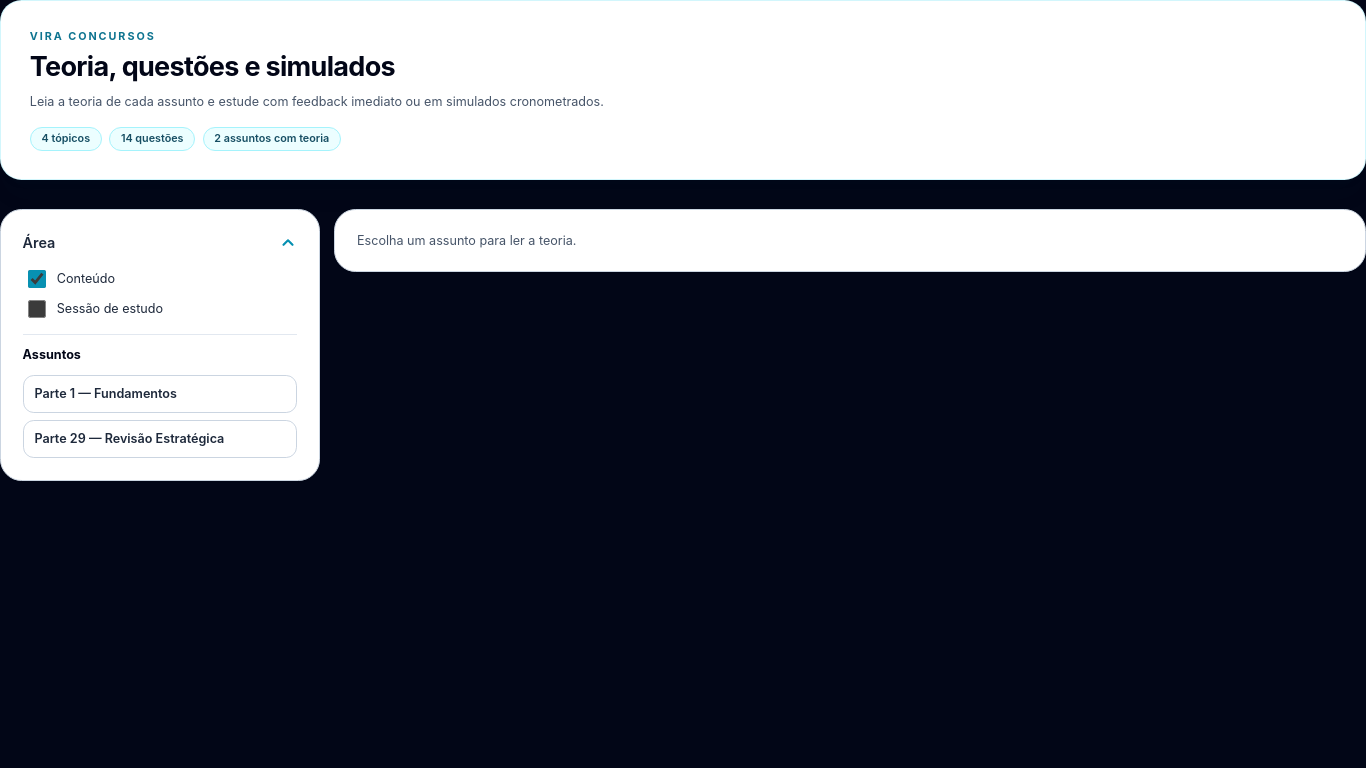
it: ConcursosDashboard › leva da teoria para a sessão de estudo com o assunto já marcado
This screenshot has width=1366, height=768.
Expected: the checkbox labelled "Conteúdo" is shown, [28,270,46,288]
What coordinates should you click on to do the following:
click the button "Parte 1 — Fundamentos"
I would click on:
 (160, 394)
Its box is [23,375,297,413].
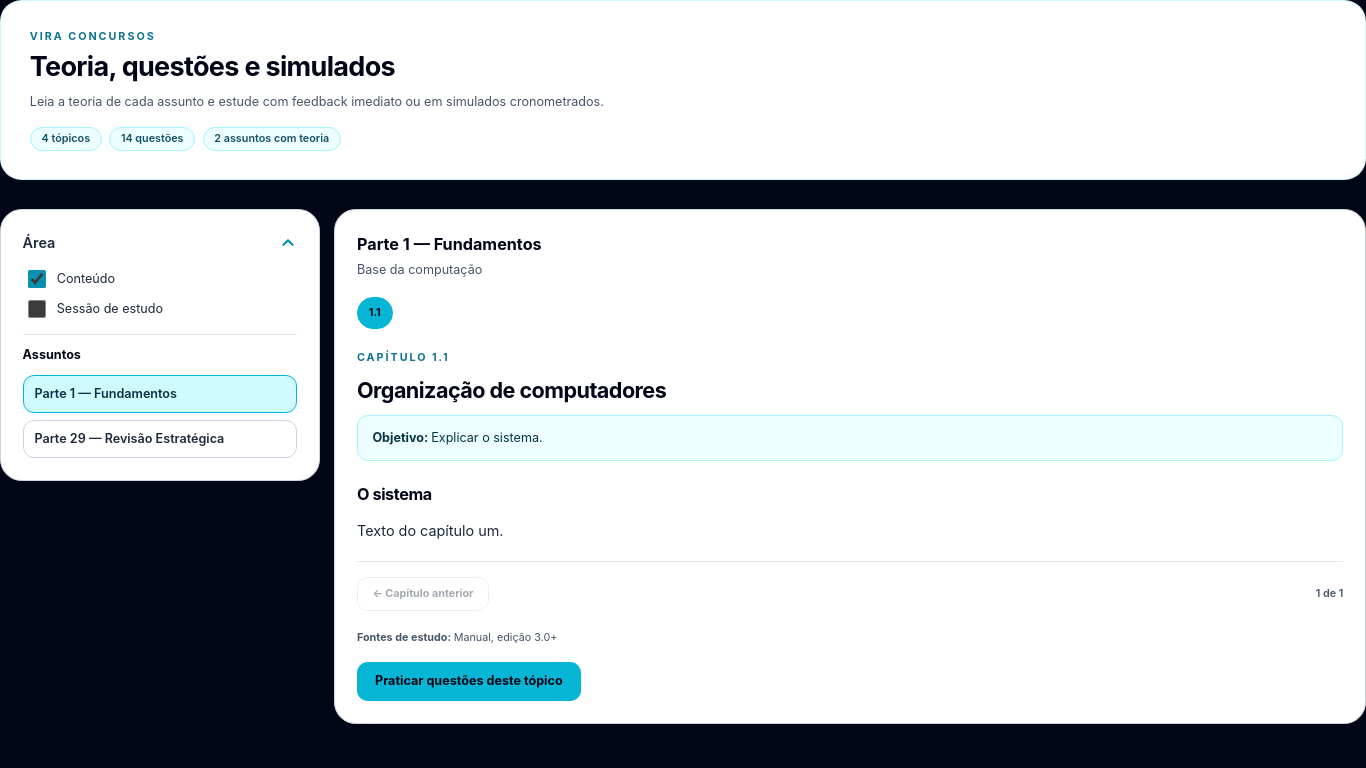
Expected: the text "Texto do capítulo um." is shown, [357,522,504,539]
What coordinates should you click on to do the following:
click the button "Praticar questões deste tópico"
I would click on:
 (469, 681)
Its box is [357,662,581,701].
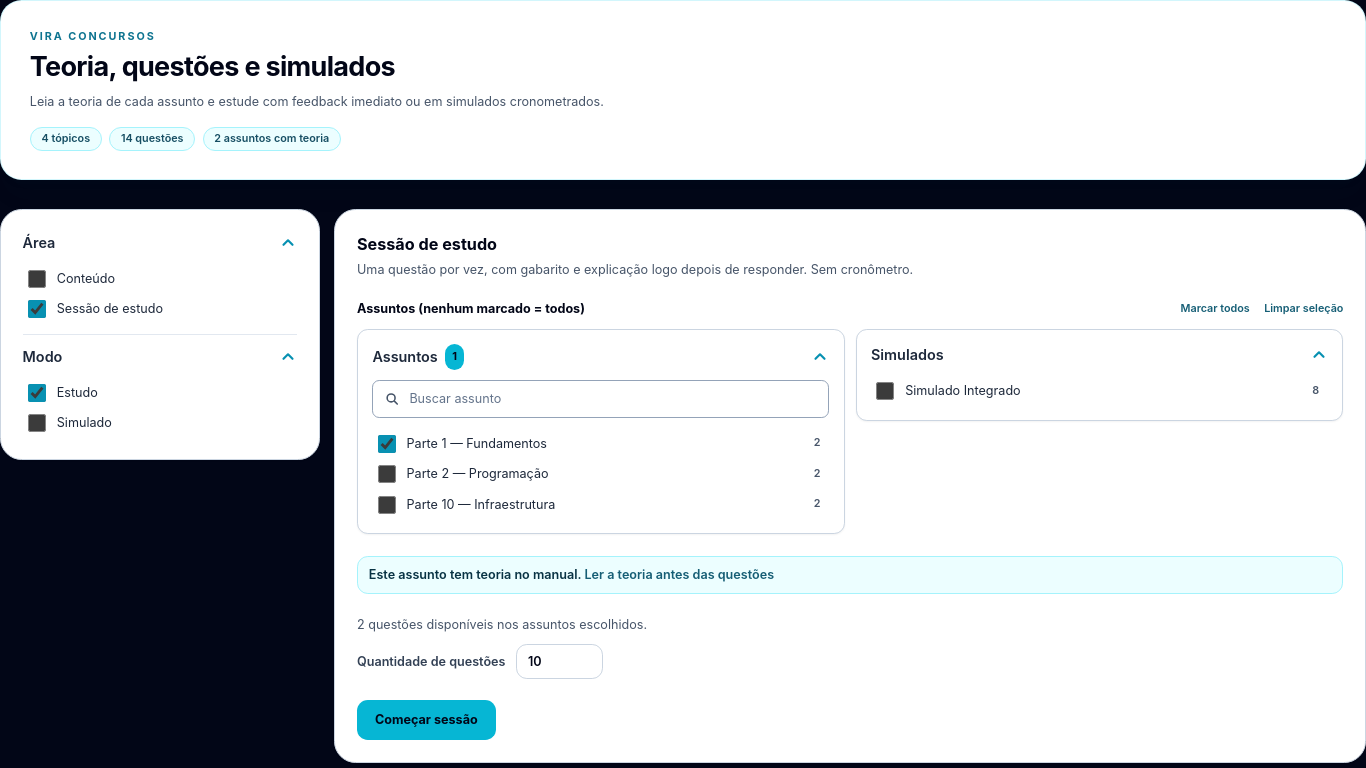
Expected: the checkbox labelled "Sessão de estudo" is checked, [28,300,46,318]
Expected: the checkbox labelled "Parte 1 — Fundamentos 2" is checked, [378,434,396,452]
What coordinates should you click on to do the following:
click the checkbox labelled "Conteúdo"
I would click on:
 (37, 278)
Its box is [28,270,46,288].
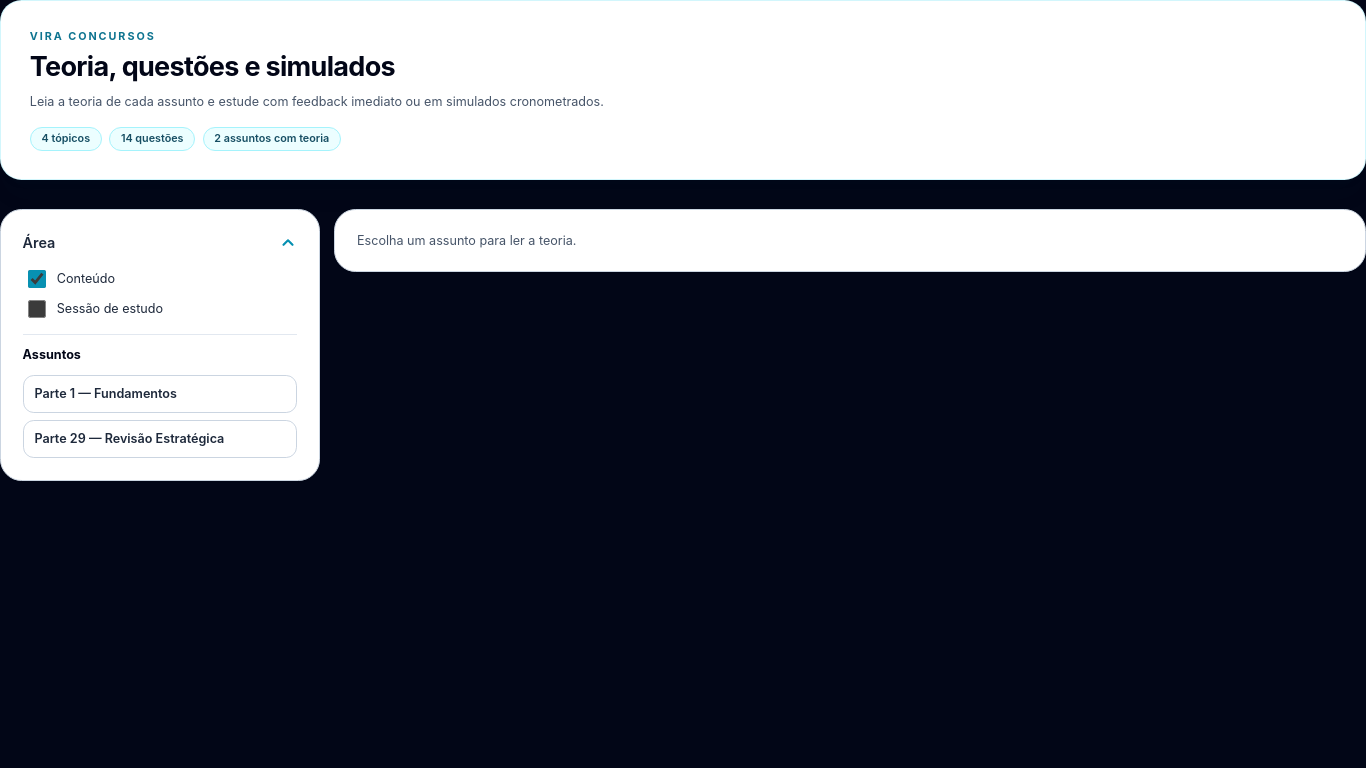
What coordinates should you click on to do the following:
click the checkbox labelled "Sessão de estudo"
I would click on:
 (37, 309)
Its box is [28,300,46,318].
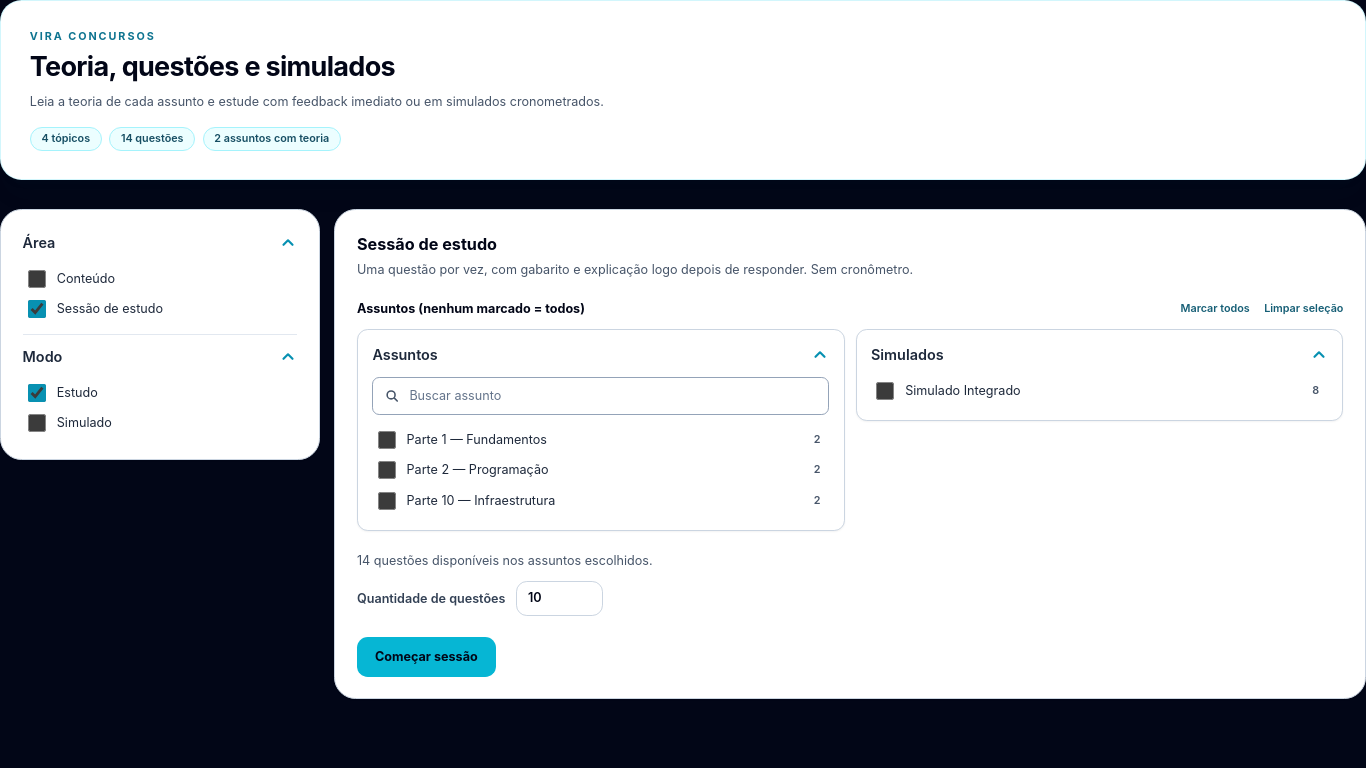
Expected: the checkbox labelled "Parte 1 — Fundamentos 2" is not checked, [378,431,396,449]
